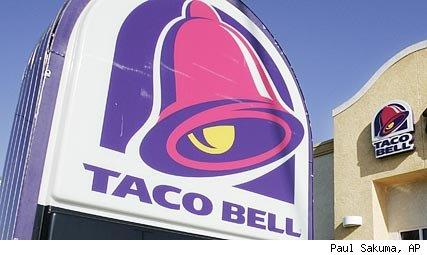Taco_Bell: (68, 0, 317, 235)
